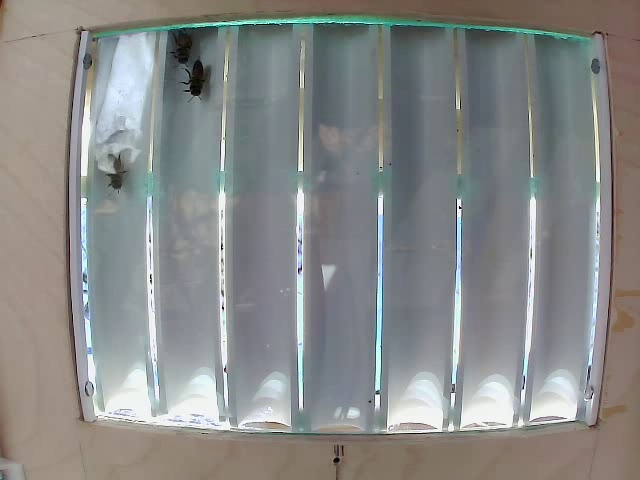bee: (97, 143, 142, 196), (173, 59, 224, 104), (166, 29, 204, 72)
